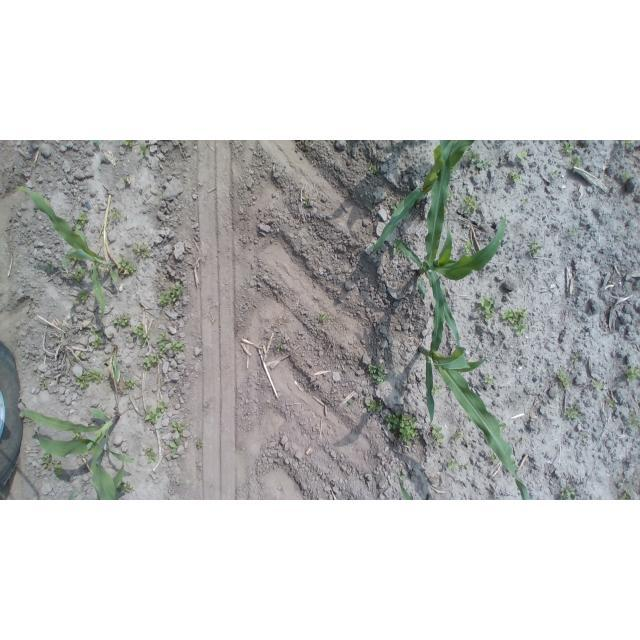Maize: (415, 294, 538, 499), (10, 183, 135, 315), (386, 216, 510, 347), (371, 140, 479, 256), (21, 402, 134, 499)
Weeds: (385, 413, 419, 443), (503, 307, 528, 336), (474, 293, 497, 323), (159, 285, 184, 308), (76, 369, 103, 390), (145, 403, 168, 426), (366, 362, 386, 387), (460, 195, 480, 217), (131, 323, 150, 343), (564, 402, 583, 422), (109, 207, 127, 228), (558, 484, 581, 500), (367, 396, 386, 415), (132, 243, 153, 260), (468, 153, 489, 170), (89, 327, 104, 350), (143, 353, 161, 372), (157, 333, 172, 355), (74, 211, 91, 230), (554, 368, 570, 388), (167, 435, 181, 457), (627, 361, 640, 383), (52, 460, 67, 478), (118, 481, 136, 495), (40, 452, 54, 470), (114, 313, 132, 327), (72, 269, 89, 283), (120, 259, 137, 273), (145, 447, 158, 464), (430, 426, 443, 443), (627, 412, 640, 429), (507, 169, 522, 183), (76, 291, 92, 304), (316, 310, 332, 323), (620, 168, 633, 184), (171, 341, 185, 355), (121, 173, 134, 188), (391, 240, 403, 256), (463, 241, 476, 255), (516, 151, 532, 162), (560, 143, 576, 154), (567, 157, 583, 168), (300, 193, 313, 206), (40, 375, 52, 389), (528, 241, 540, 255), (617, 142, 635, 151), (124, 378, 137, 390), (486, 451, 498, 464), (593, 379, 606, 391), (549, 168, 562, 180), (620, 488, 633, 500), (174, 475, 187, 487), (173, 419, 184, 433), (453, 429, 463, 444), (571, 351, 582, 364), (73, 351, 87, 361), (447, 457, 457, 471), (121, 141, 140, 148), (195, 438, 205, 451), (368, 162, 378, 175), (141, 145, 152, 156), (397, 471, 405, 486), (70, 256, 82, 266), (71, 431, 83, 441), (390, 205, 403, 214), (433, 384, 444, 394), (481, 374, 491, 385), (570, 223, 579, 235), (520, 197, 531, 205), (581, 435, 589, 446), (446, 188, 453, 200), (516, 436, 525, 445), (609, 401, 617, 410), (89, 141, 103, 146), (500, 421, 508, 429), (46, 261, 53, 270), (492, 492, 499, 500), (275, 344, 282, 351), (348, 399, 353, 407)
